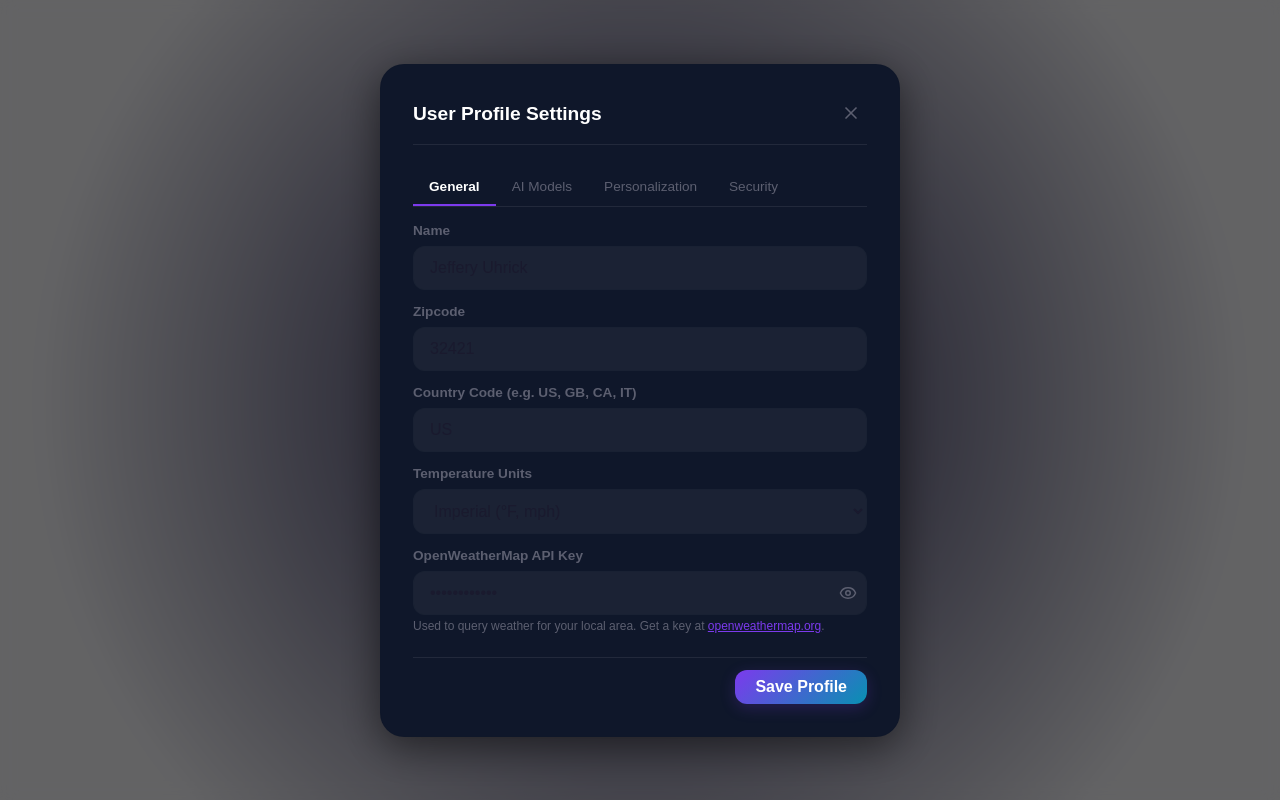
Test: ProfileModal Component Tests › Security tab (SEC-5 log out everywhere) › the Security tab has no "Save Profile" button
This screenshot has width=1280, height=800.
Click the button "Security" at [754, 187], box [713,168,794,206]
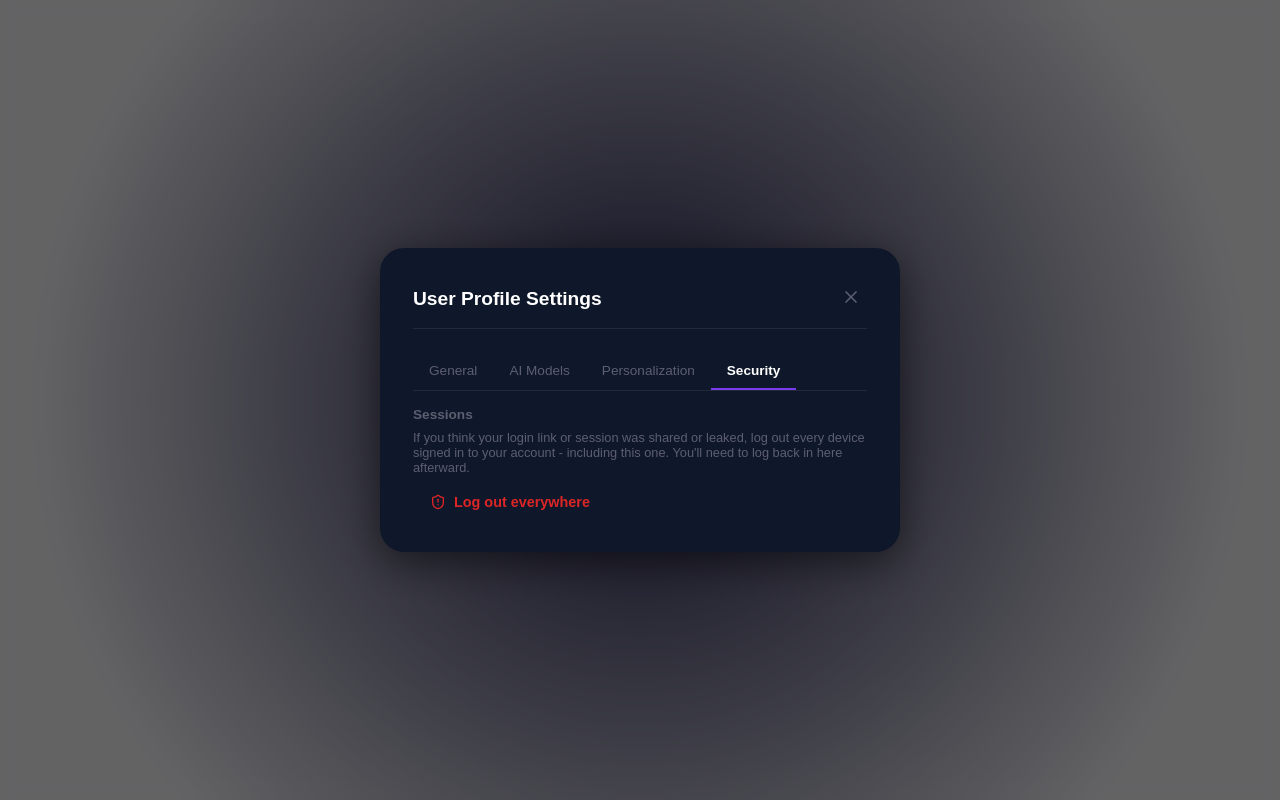
Now the button "Save Profile" is gone
